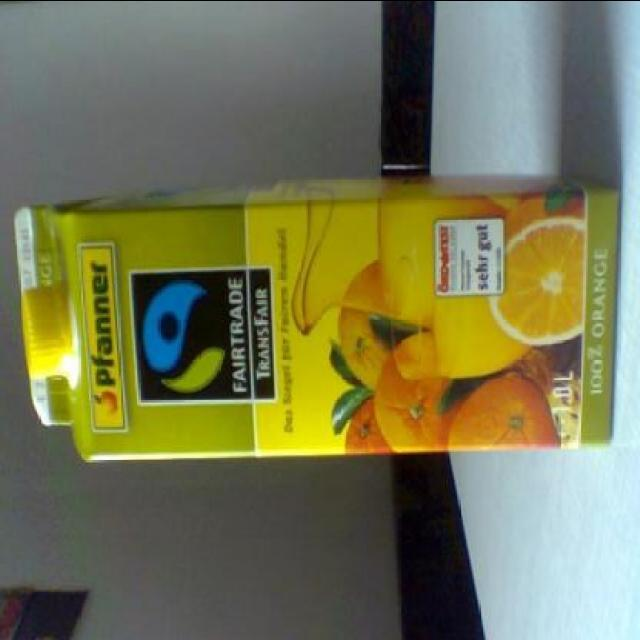Orange: (489, 200, 585, 348), (370, 343, 447, 452), (449, 376, 553, 454), (344, 270, 402, 374), (338, 404, 386, 466)
